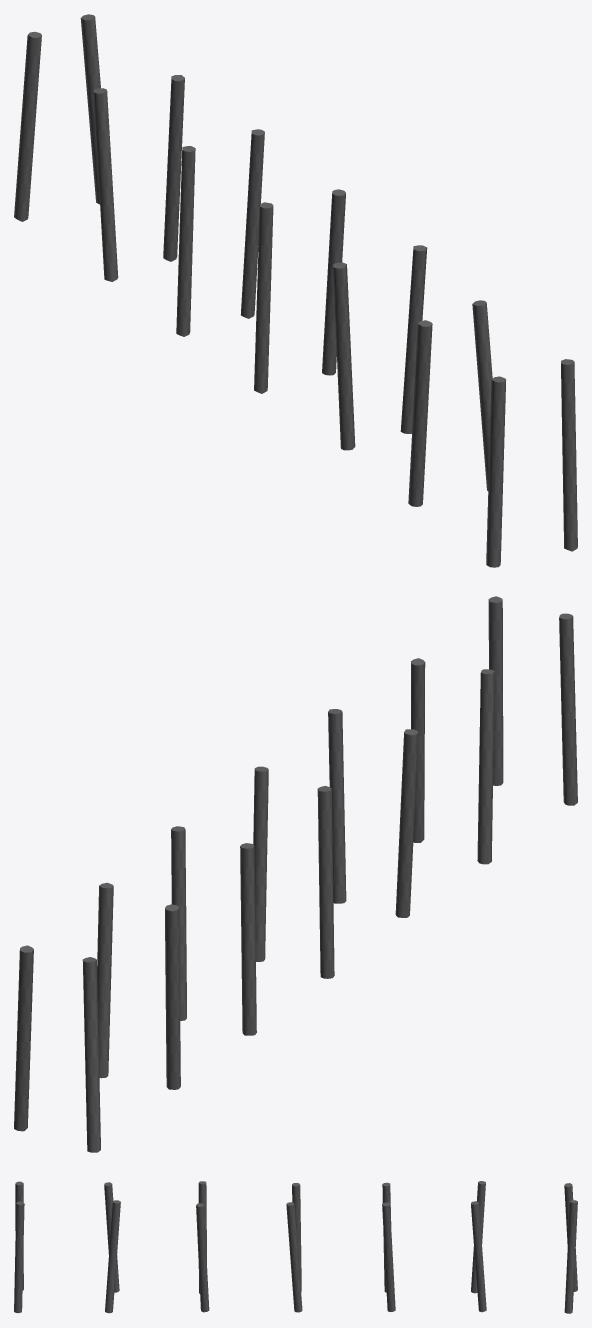
The model's file is SM_Pier_Bridge_Supports.fbx.
3 views of the same model, one above another, from view 1: azimuth 30°, elevation 25°; view 2: azimuth 150°, elevation 25°; view 3: azimuth 270°, elevation 25° (orthographic). The views are drawn at different scales.
Parts seen in each view (by area): view 1: SM_Pier_Bridge_Supports; view 2: SM_Pier_Bridge_Supports; view 3: SM_Pier_Bridge_Supports.
Boxes of the visible parts, x1,y1,x2,y2 form: SM_Pier_Bridge_Supports: (14, 14, 577, 567); SM_Pier_Bridge_Supports: (14, 596, 577, 1152); SM_Pier_Bridge_Supports: (14, 1181, 577, 1313).
Bounding box in the file's own units: 767 × 6933 × 1479.
